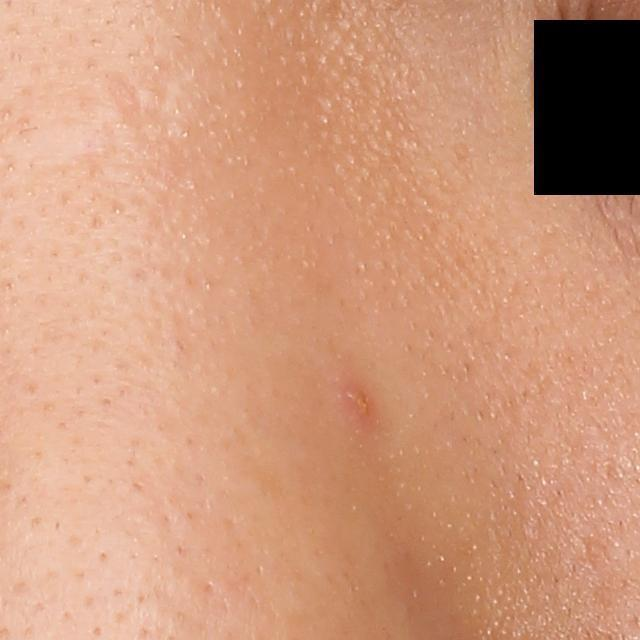atrophic_scar: (104, 73, 189, 140)
